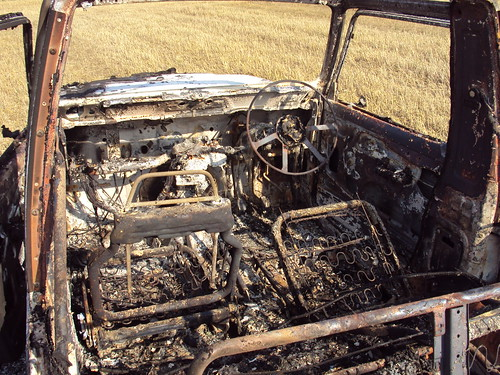car: (27, 14, 500, 375)
